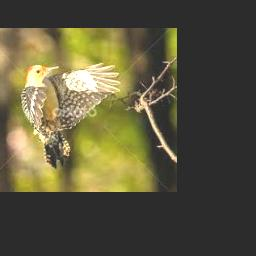Woodpecker: (20, 63, 120, 168)
